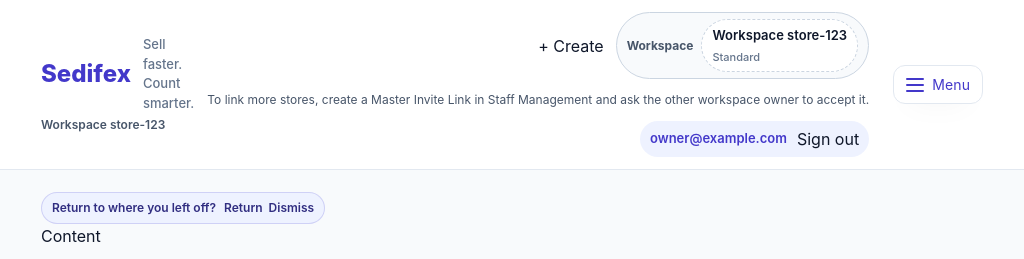
it: Shell › allows dismissing the return-to-last-page prompt
The width and height of the screenshot is (1024, 259).
Step 1. Click the button "Dismiss" → point(291, 208), box [269,199,314,217]
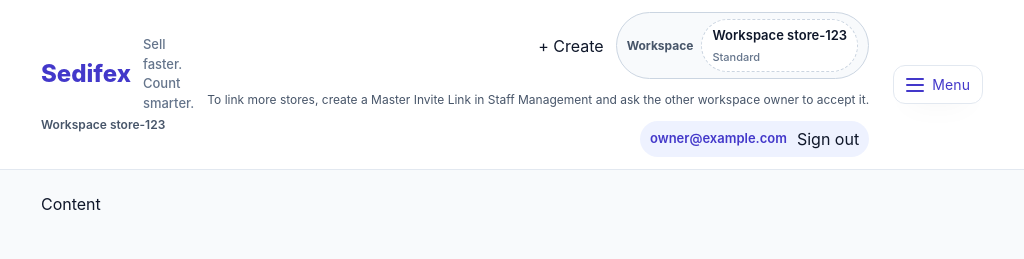
Now the text "Return to where you left off?" is gone
